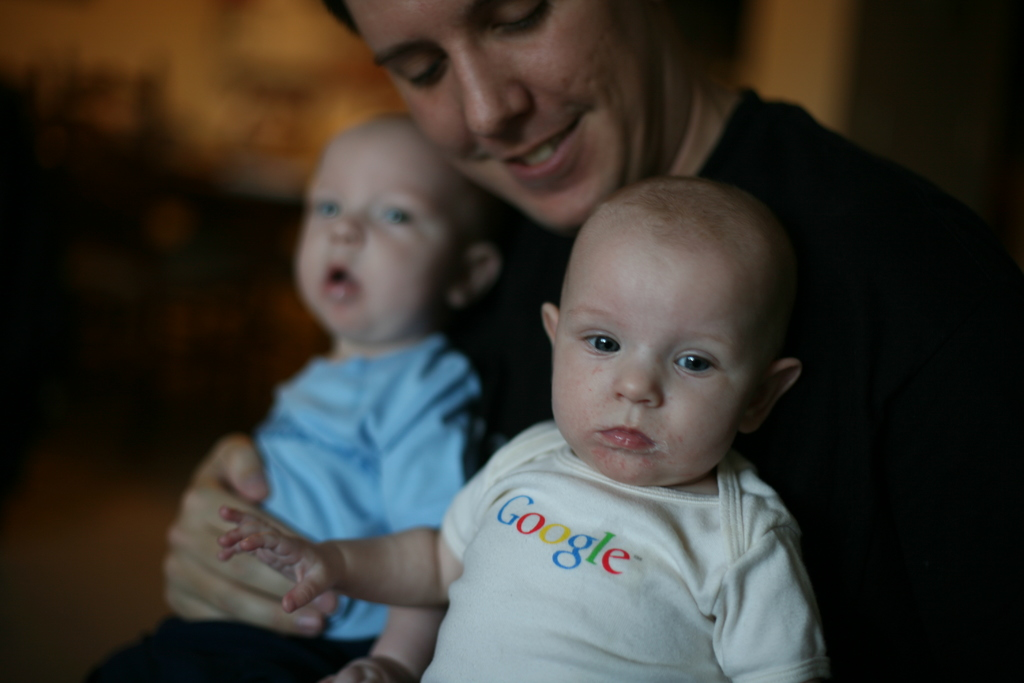Human_hand: (216, 420, 570, 614), (321, 365, 489, 682), (161, 431, 334, 636), (705, 525, 828, 682)
